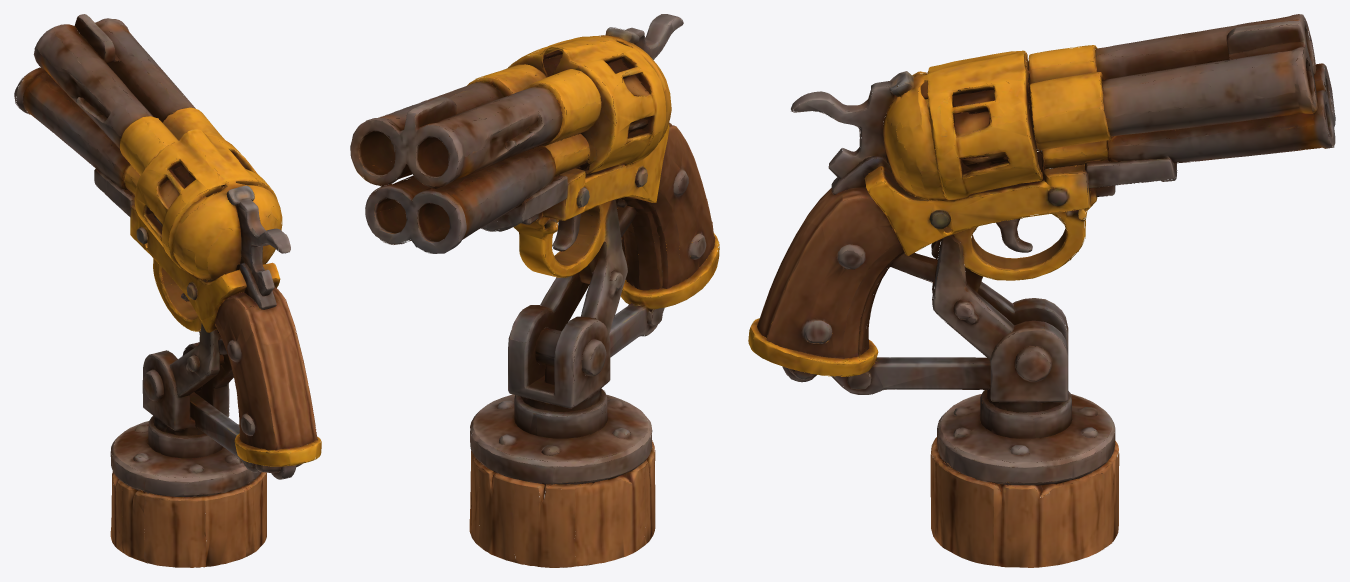
The model's file is buck_blaster.glb.
3 renders of one model, left to right at view 1: azimuth 30°, elevation 25°; view 2: azimuth 150°, elevation 25°; view 3: azimuth 270°, elevation 25°, orthographic. The views are drawn at different scales.
Visible parts, largest first — view 1: gun, head, base; view 2: gun, head, base; view 3: gun, head, base.
Part boxes in pixels (box(x1,y1,x2,y2)): gun: box(14, 14, 295, 350); head: box(142, 258, 321, 479); base: box(110, 421, 266, 567); gun: box(350, 14, 689, 253); head: box(508, 141, 719, 438); base: box(469, 394, 655, 567); gun: box(791, 14, 1335, 244); head: box(748, 207, 1085, 438); base: box(930, 394, 1119, 567).
Bounding box in the file's own units: 0.6587 × 2 × 2.07.
Materials: 1 (1 with a texture image).
